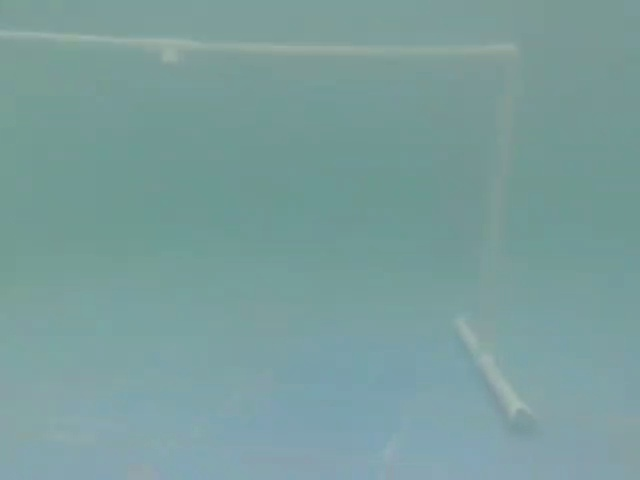gate: (9, 8, 538, 453)
